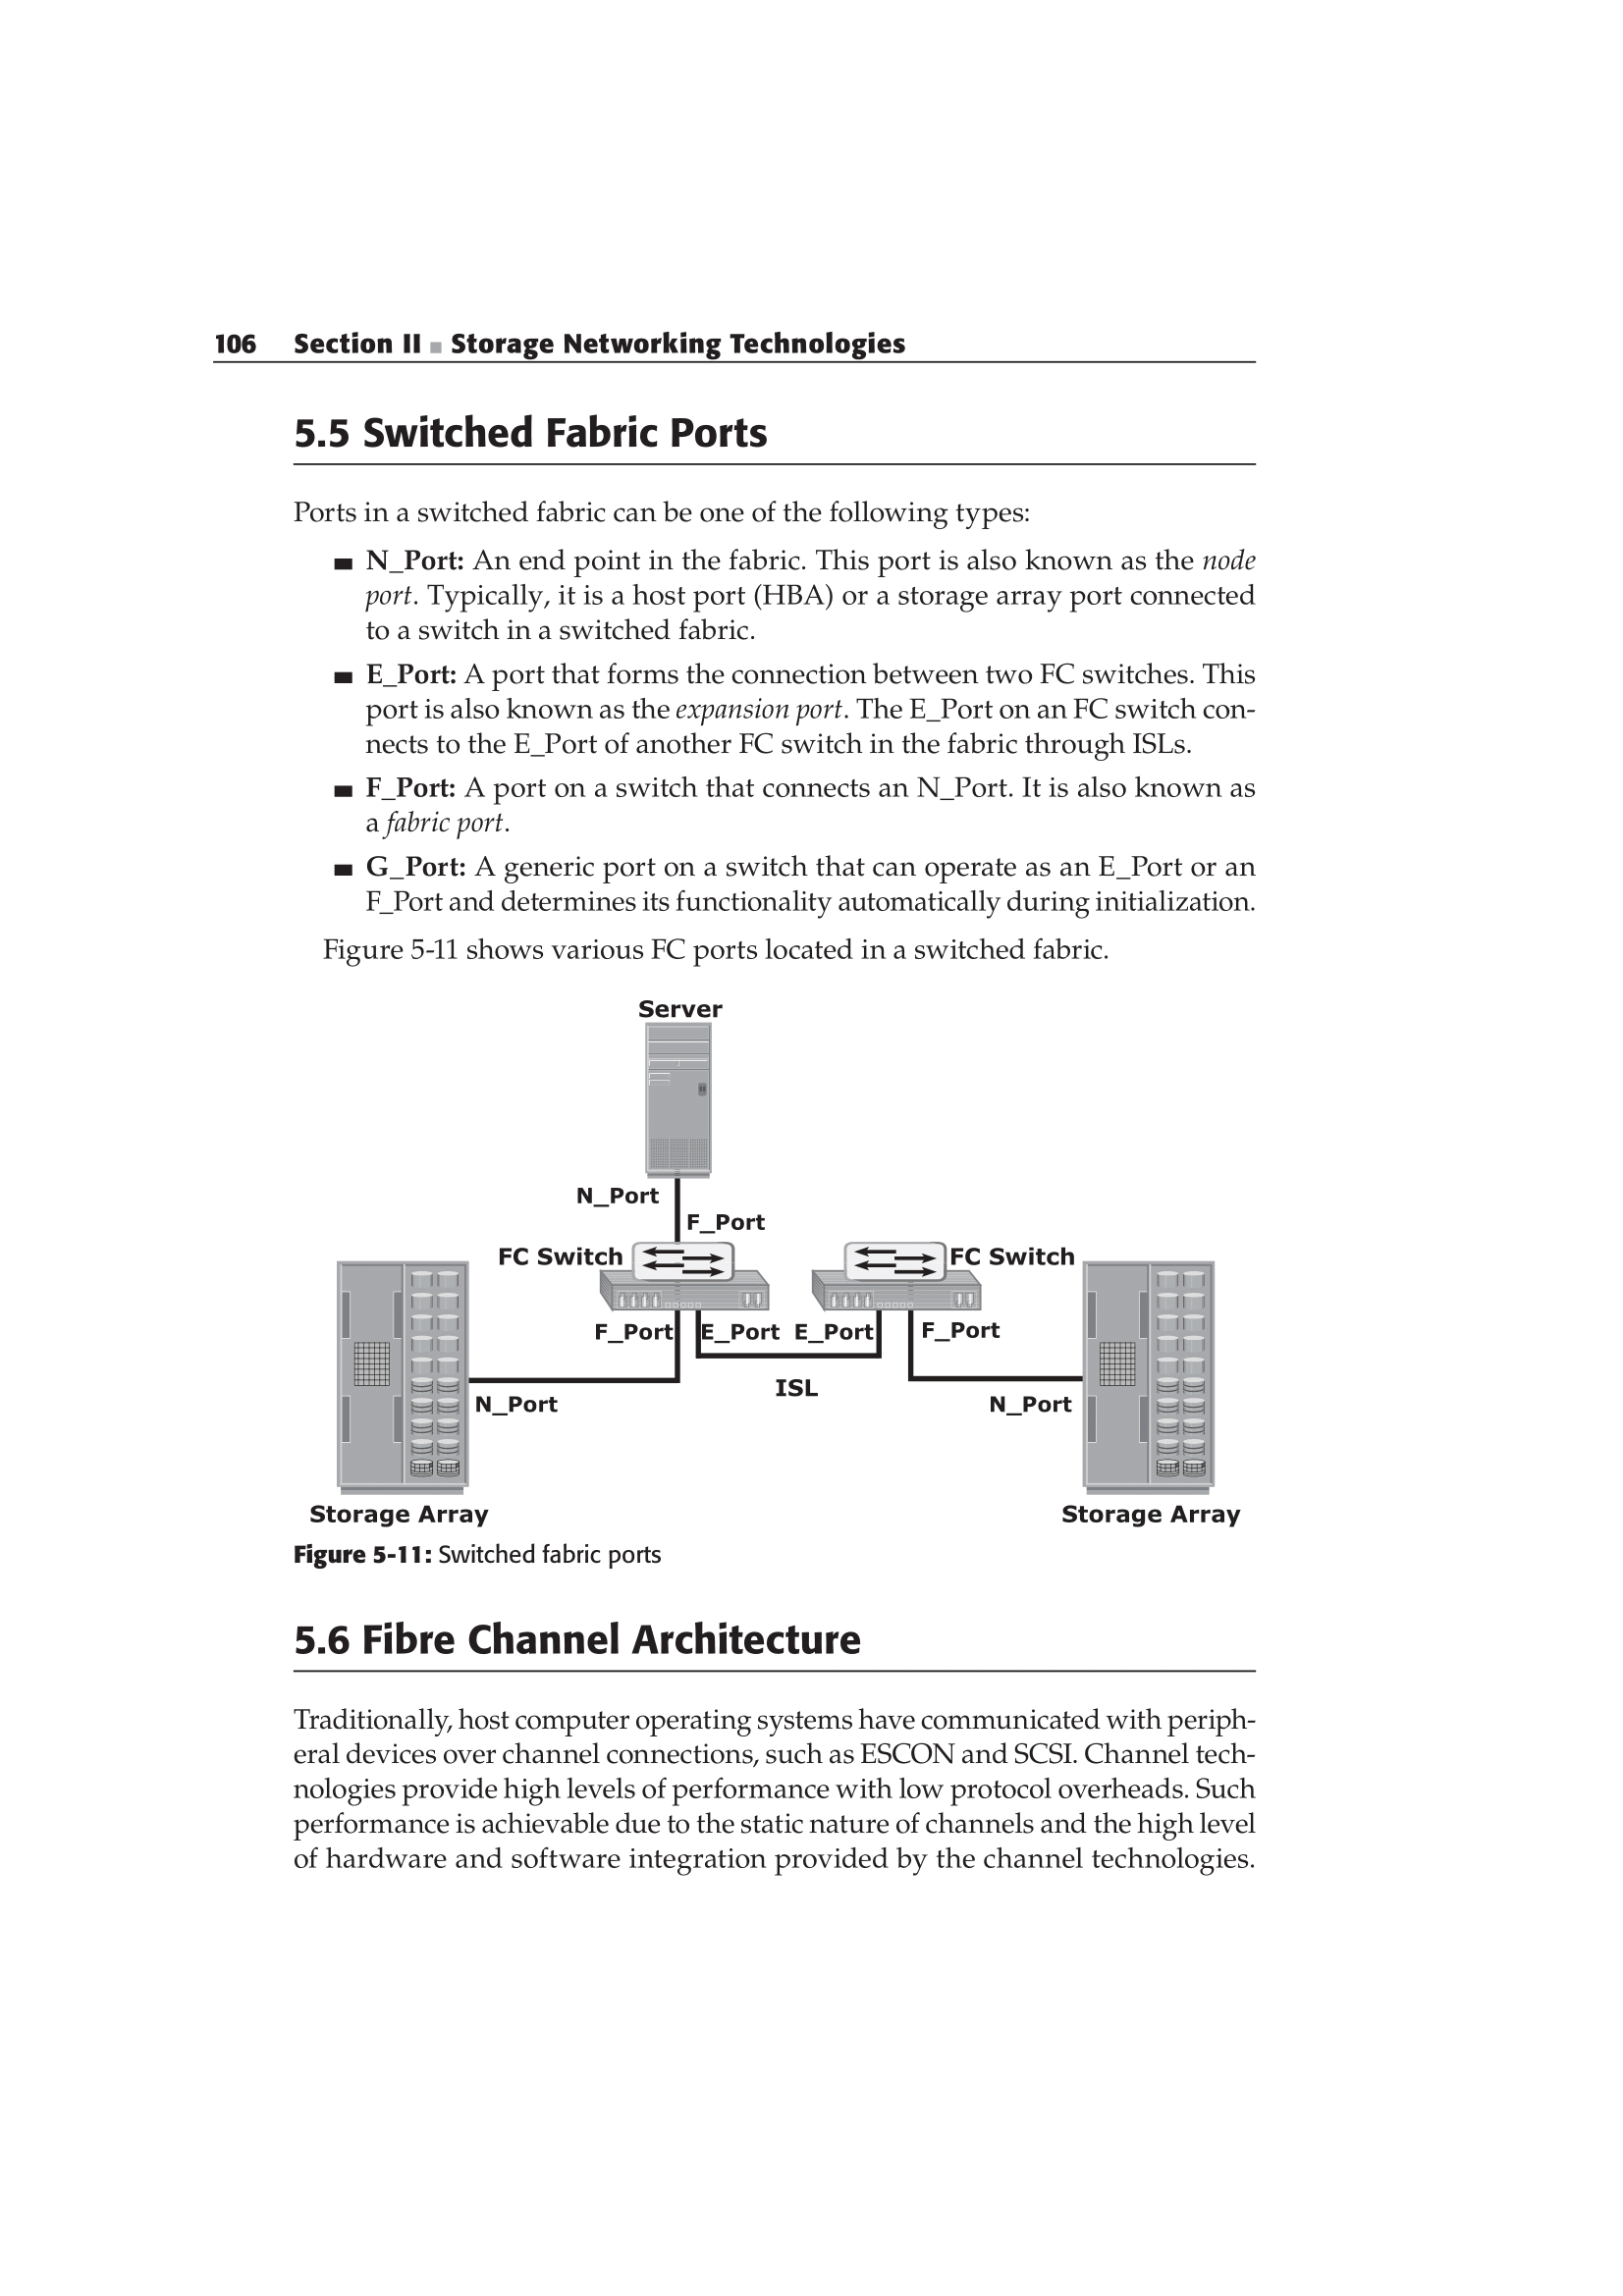Image: (288, 987, 1282, 1583)
Paragraph: (279, 1689, 1265, 1891), (351, 534, 1259, 644), (351, 648, 1270, 753), (357, 758, 1273, 844), (360, 853, 1288, 918), (206, 297, 927, 374), (292, 922, 1159, 981), (288, 1597, 899, 1680), (269, 479, 1059, 534), (265, 411, 813, 462)
